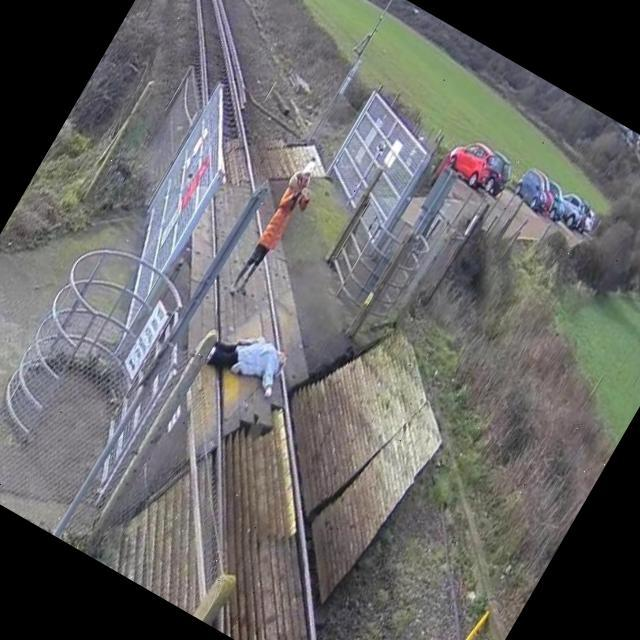person: (225, 156, 329, 306), (200, 317, 294, 403)
